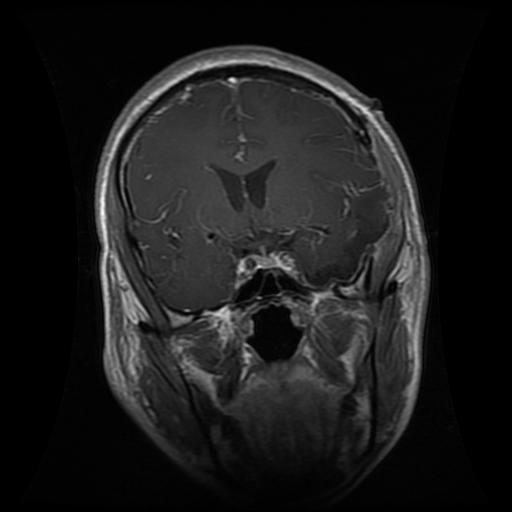Gliomia_tumour: (315, 183, 390, 285)
